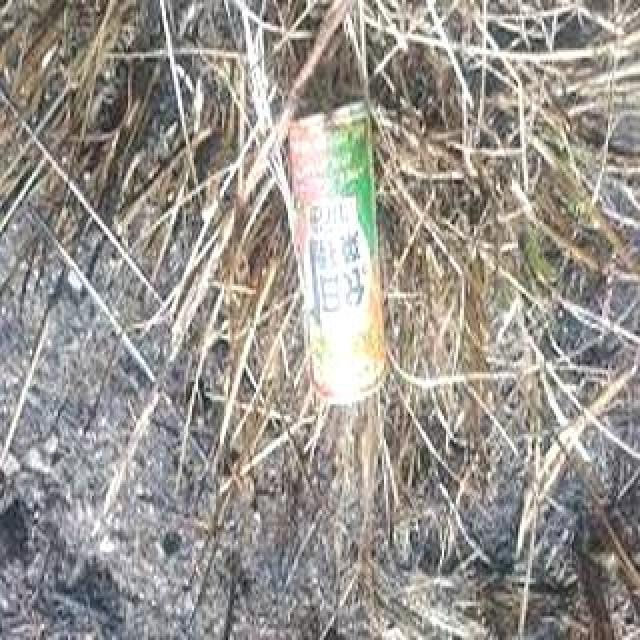Can: (279, 95, 401, 413)
